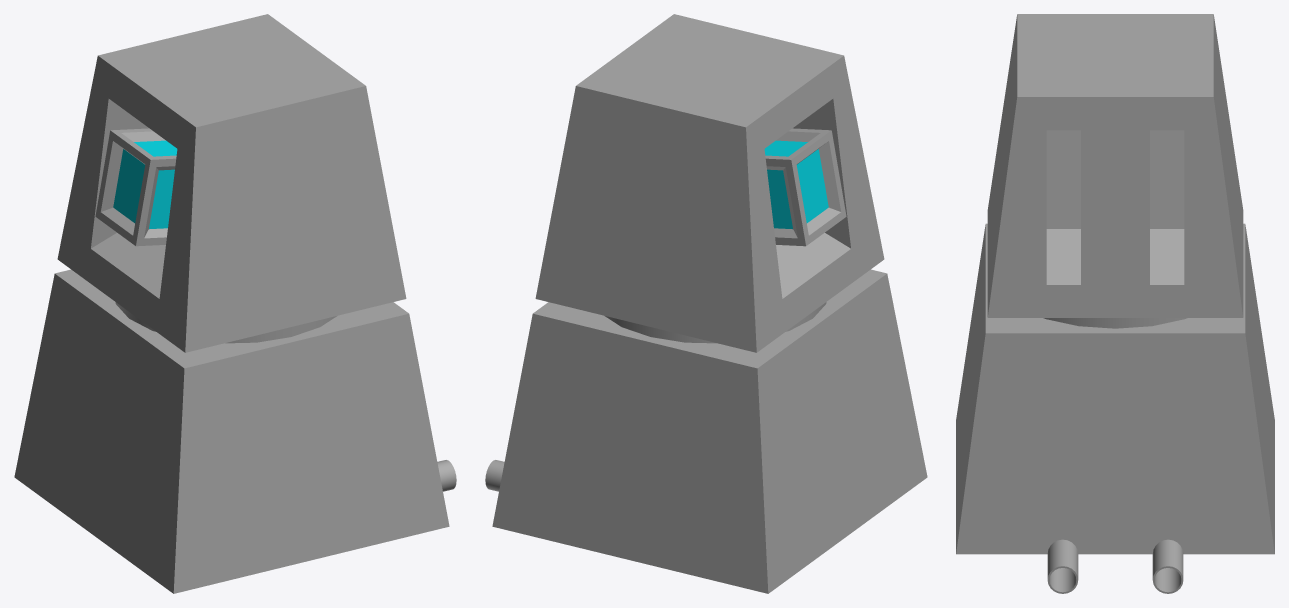
The model's file is TurretWhole.fbx.
3 views of the same model, side by side, from view 1: azimuth 30°, elevation 25°; view 2: azimuth 150°, elevation 25°; view 3: azimuth 270°, elevation 25° (orthographic).
Parts seen in each view (by area): view 1: Bottom, Top, Battery, Waist; view 2: Bottom, Top, Battery, Waist; view 3: Bottom, Top, Barrels, Waist.
Boxes of the visible parts, x1,y1,x2,y2 form: Bottom: (14, 269, 449, 593); Top: (57, 14, 406, 352); Battery: (95, 128, 177, 246); Waist: (115, 302, 336, 343); Bottom: (492, 269, 927, 593); Top: (535, 14, 884, 352); Battery: (764, 128, 846, 246); Waist: (605, 302, 826, 343); Bottom: (956, 223, 1274, 554); Top: (987, 14, 1243, 317); Barrels: (1047, 539, 1183, 593); Waist: (1043, 318, 1187, 328).
Bounding box in the file's own units: 476 × 617 × 400.
